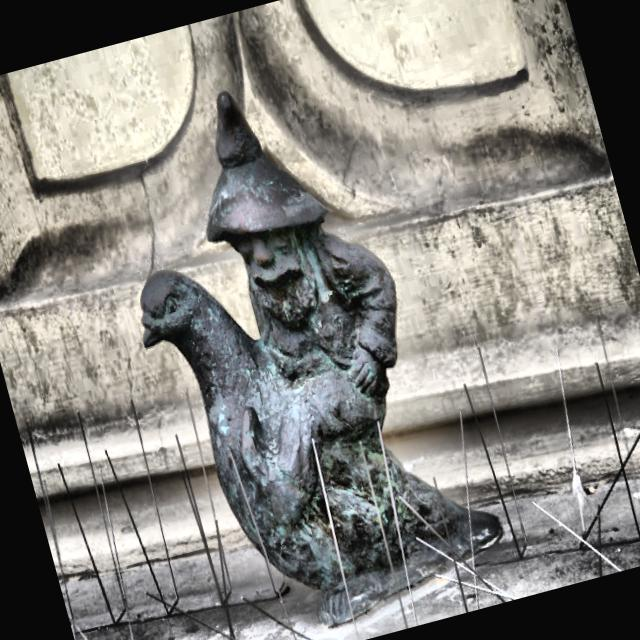Golebnik: (140, 94, 505, 629)
